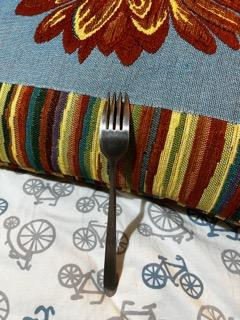fork: (100, 91, 131, 298)
